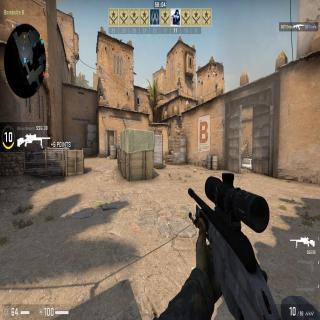T-Body: (167, 120, 170, 136)
T-Head: (168, 121, 169, 123)
